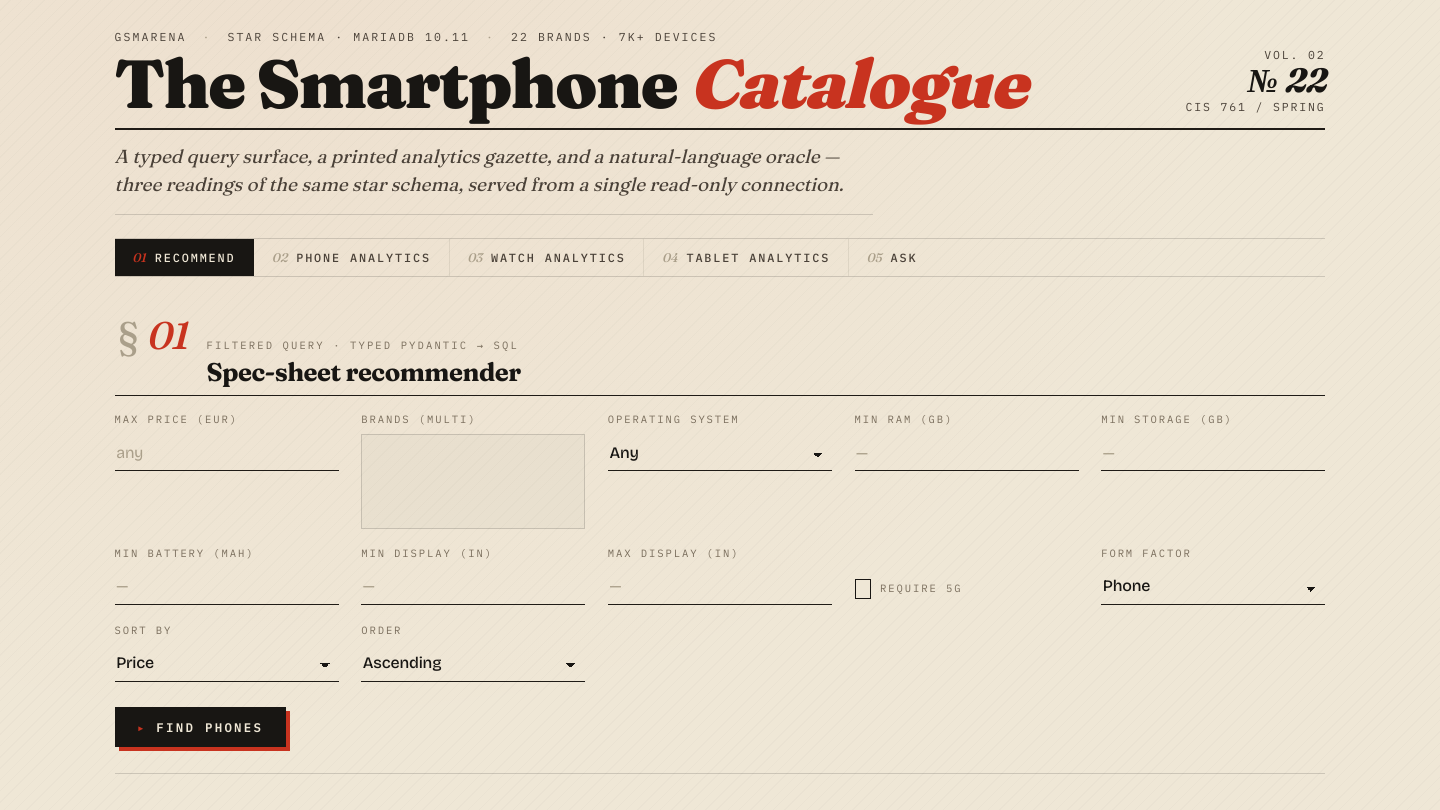
Scenario: App tab navigation › switches to Ask tab on click
Click the button "Ask". click: (892, 257)
box: [849, 238, 935, 276]
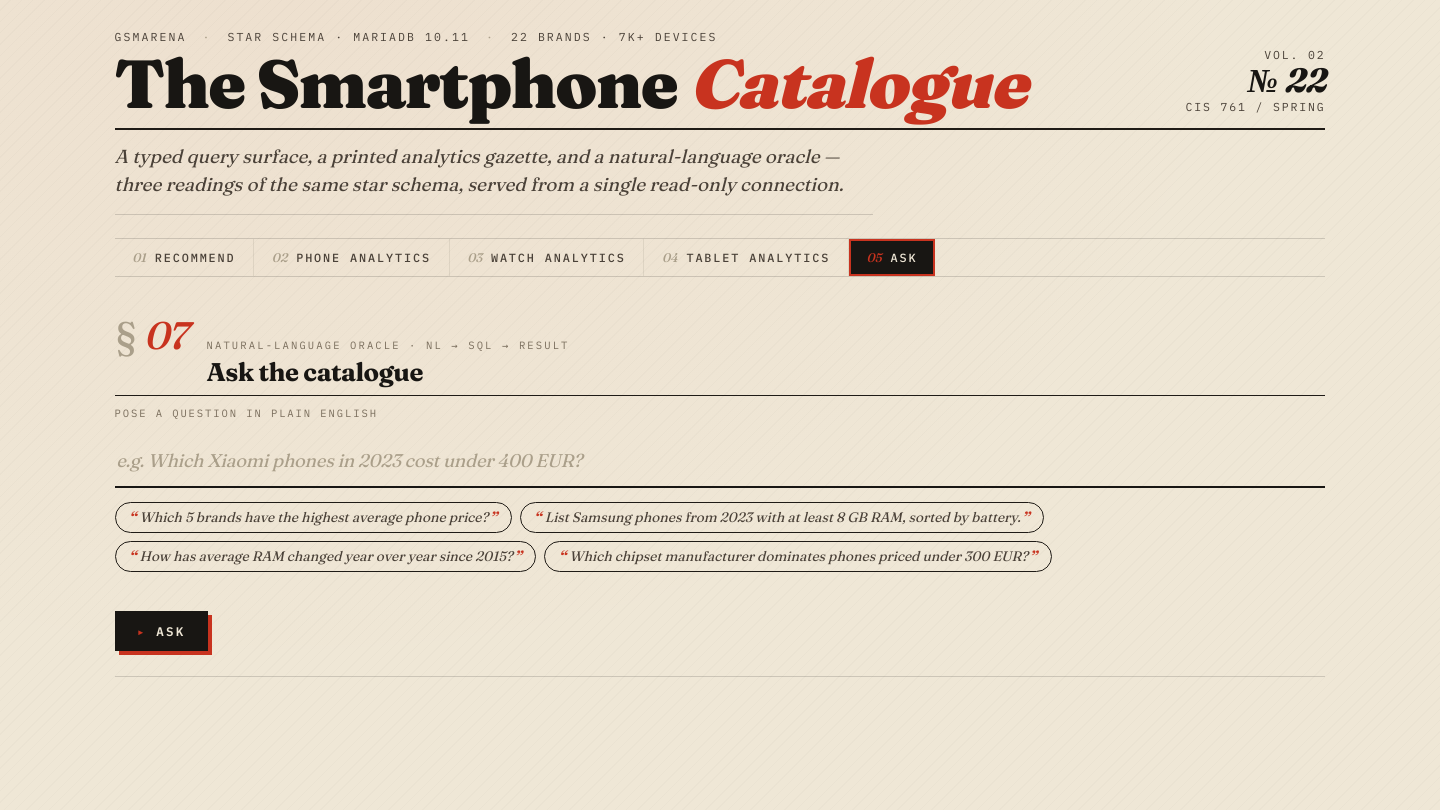
expect the field with placeholder "e.g. Which Xiaomi phones in 2023 cost under 400 EUR?" is shown: met, box [114, 436, 1325, 488]
